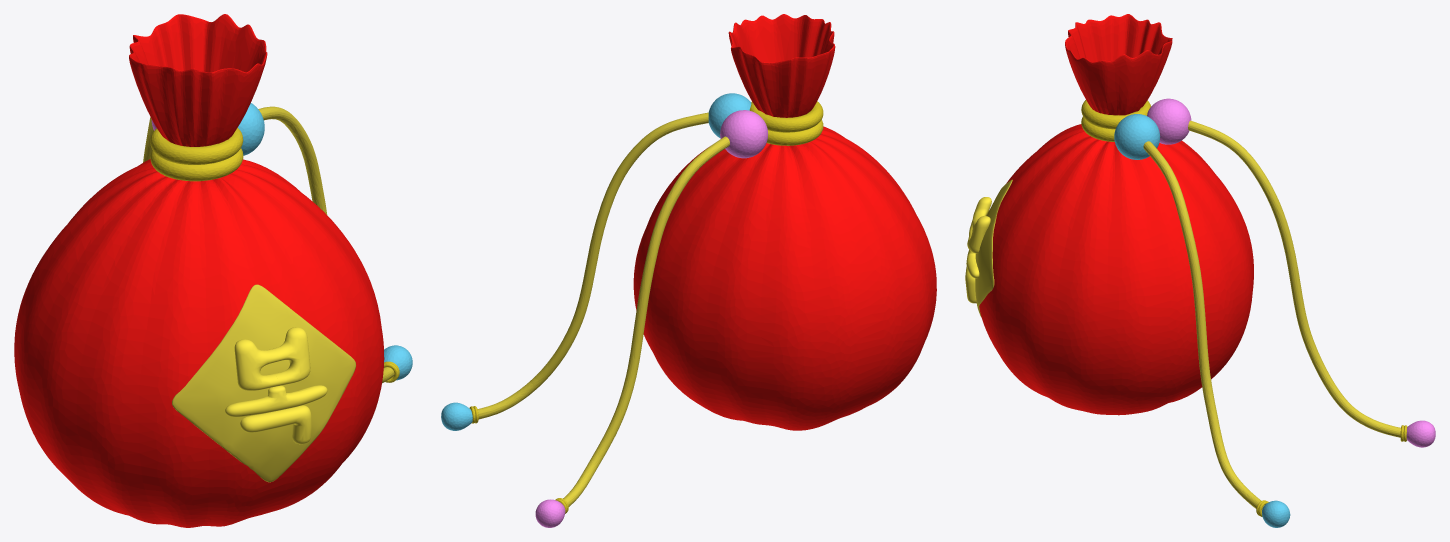
Rendered from bok.glb.
The picture shows the model from 3 angles, left to right: view 1: azimuth 30°, elevation 25°; view 2: azimuth 150°, elevation 25°; view 3: azimuth 270°, elevation 25°; orthographic projection. The views are drawn at different scales.
Parts seen in each view (by area): view 1: Cylinder.001; view 2: Cylinder.001; view 3: Cylinder.001.
Part boxes in pixels (x1,y1,x2,y2): Cylinder.001: (14, 14, 412, 527); Cylinder.001: (441, 14, 936, 527); Cylinder.001: (965, 14, 1435, 527).
Bounding box in the file's own units: 4.18 × 4.08 × 4.57.
